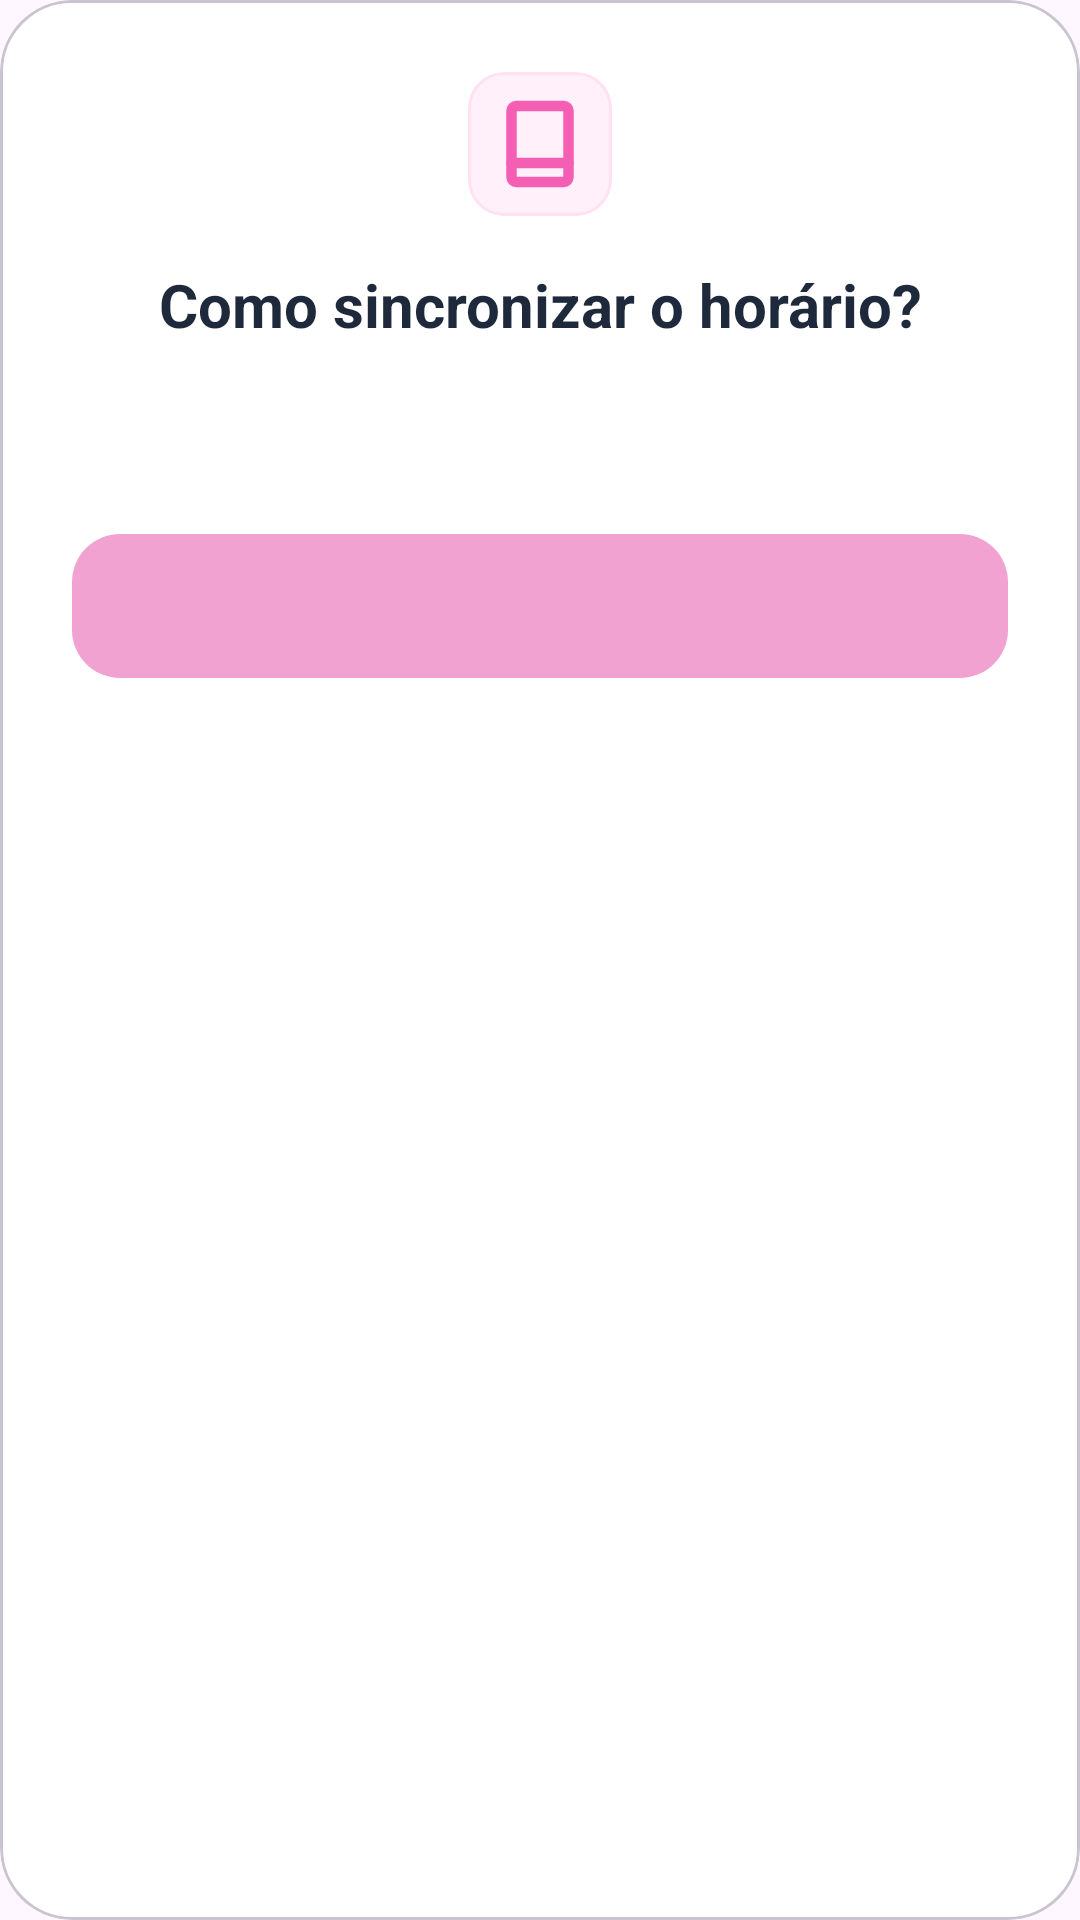

Screen size 1080x1920. Icon name, then its center in pixels as point (x, y):
book: point (540, 144)
